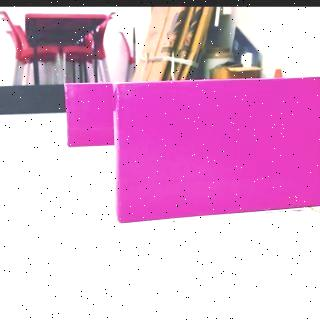xparking: (117, 80, 320, 216), (65, 83, 113, 149)
